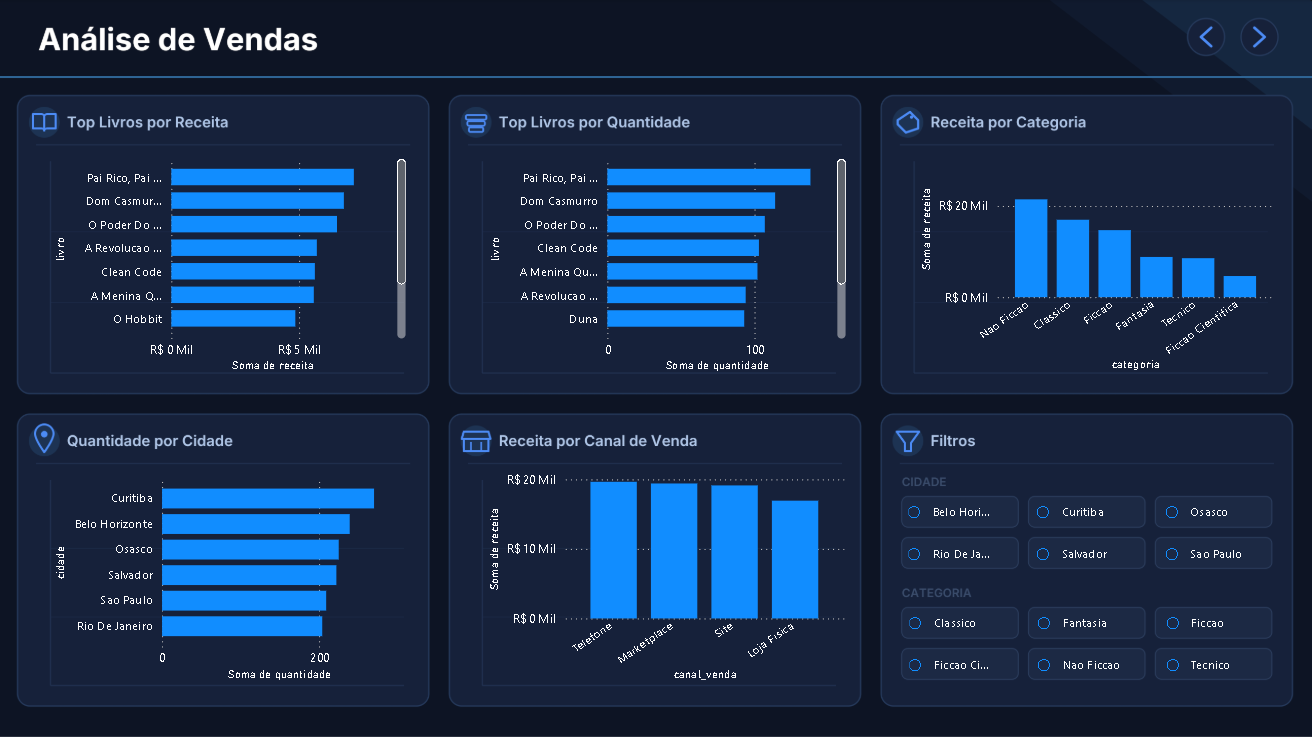

The dashboard page shown, as its layout file describes it:
{"tool":"powerbi","page":{"name":"Página 2","canvas":[1280,720],"ordinal":1},"visuals":[{"type":"barChart","fields":{"Category":["baseVendas.livro"],"Y":["Sum(baseVendas.receita)"]},"box":[51.7,142.5,350.8,224.2],"z":0},{"type":"barChart","fields":{"Category":["baseVendas.livro"],"Y":["Sum(baseVendas.quantidade)"]},"box":[474.3,142.9,355.7,224.3],"z":1000},{"type":"columnChart","fields":{"Category":["baseVendas.categoria"],"Y":["Sum(baseVendas.receita)"]},"box":[893.9,143.1,353,223],"z":2000},{"type":"barChart","fields":{"Category":["baseVendas.cidade"],"Y":["Sum(baseVendas.quantidade)"]},"box":[51.6,453.3,352.1,214],"z":3000},{"type":"columnChart","fields":{"Category":["baseVendas.canal_venda"],"Y":["Sum(baseVendas.receita)"]},"box":[474.1,453.1,355.6,214.2],"z":4000},{"type":"advancedSlicerVisual","fields":{"Values":["baseVendas.categoria"]},"box":[871,577,367,100],"z":5000},{"type":"advancedSlicerVisual","fields":{"Values":["baseVendas.cidade"]},"box":[870,469,367,100],"z":6000},{"type":"actionButton","box":[1155.5,16.7,42.1,40.4],"z":7000}]}

Visuals, with their boxes in screenshot pixels (x1, y1, x2, y2), scaled from the page's 1280x720 canvas onto the 1312x737 screenshot:
barChart - baseVendas.livro x Sum(baseVendas.receita): pyautogui.locateOnScreen(53, 146, 413, 375)
barChart - baseVendas.livro x Sum(baseVendas.quantidade): pyautogui.locateOnScreen(486, 146, 851, 376)
columnChart - baseVendas.categoria x Sum(baseVendas.receita): pyautogui.locateOnScreen(916, 146, 1278, 375)
barChart - baseVendas.cidade x Sum(baseVendas.quantidade): pyautogui.locateOnScreen(53, 464, 414, 683)
columnChart - baseVendas.canal_venda x Sum(baseVendas.receita): pyautogui.locateOnScreen(486, 464, 850, 683)
advancedSlicerVisual - baseVendas.categoria: pyautogui.locateOnScreen(893, 591, 1269, 693)
advancedSlicerVisual - baseVendas.cidade: pyautogui.locateOnScreen(892, 480, 1268, 582)
actionButton: pyautogui.locateOnScreen(1184, 17, 1228, 58)
